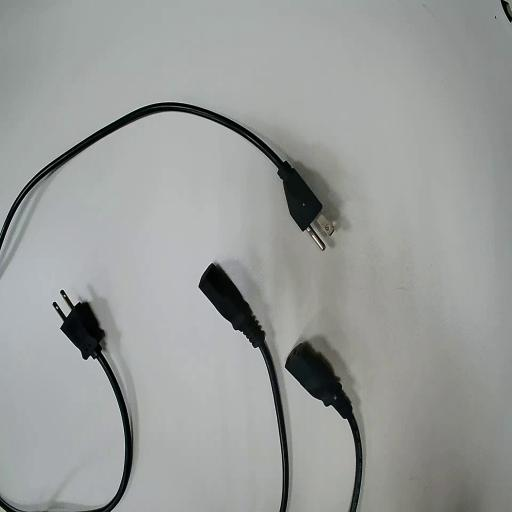wire: (0, 103, 322, 244), (200, 265, 288, 511), (58, 297, 132, 511), (286, 343, 361, 511)
